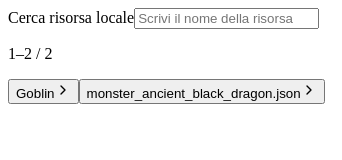
Test: finds multiword source file names without changing their labels
Type "  ANCIENT   black_dragon  " into the search field at coordinates (227, 18), box x1=134 y1=8 x2=319 y2=29
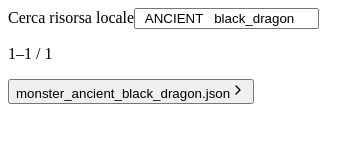
Expected: the button "monster_ancient_black_dragon.json" is shown, x1=8 y1=79 x2=254 y2=104
Result: the button "Goblin" is gone
